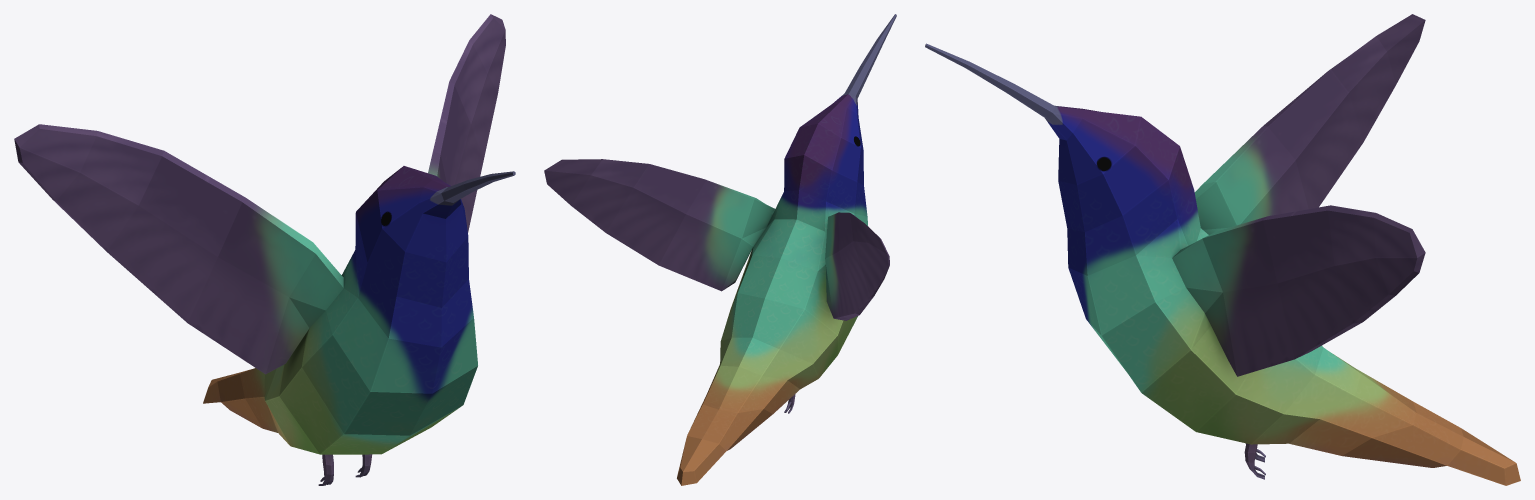
Rendered from hummingbird-poly.glb.
3 renders of one model, left to right at view 1: azimuth 30°, elevation 25°; view 2: azimuth 150°, elevation 25°; view 3: azimuth 270°, elevation 25°, orthographic. The views are drawn at different scales.
Visible parts, largest first — view 1: Hummingbird_Mesh; view 2: Hummingbird_Mesh; view 3: Hummingbird_Mesh.
Boxes of the visible parts, bbox=[...] form: Hummingbird_Mesh: bbox=[14, 14, 515, 485]; Hummingbird_Mesh: bbox=[544, 14, 896, 485]; Hummingbird_Mesh: bbox=[925, 14, 1520, 485].
Size of the model in its own units: 2.11 by 1.85 by 2.28.
Materials: 1 (1 with a texture image).
